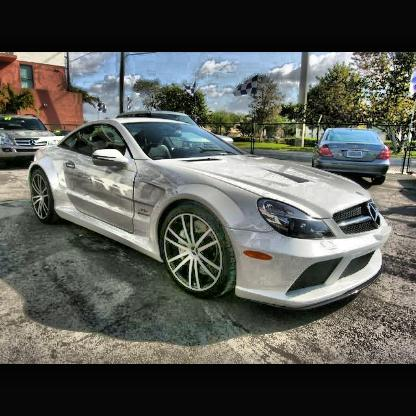Mercedes-Benz SL-Class Coupe 2009: (25, 110, 397, 314)
